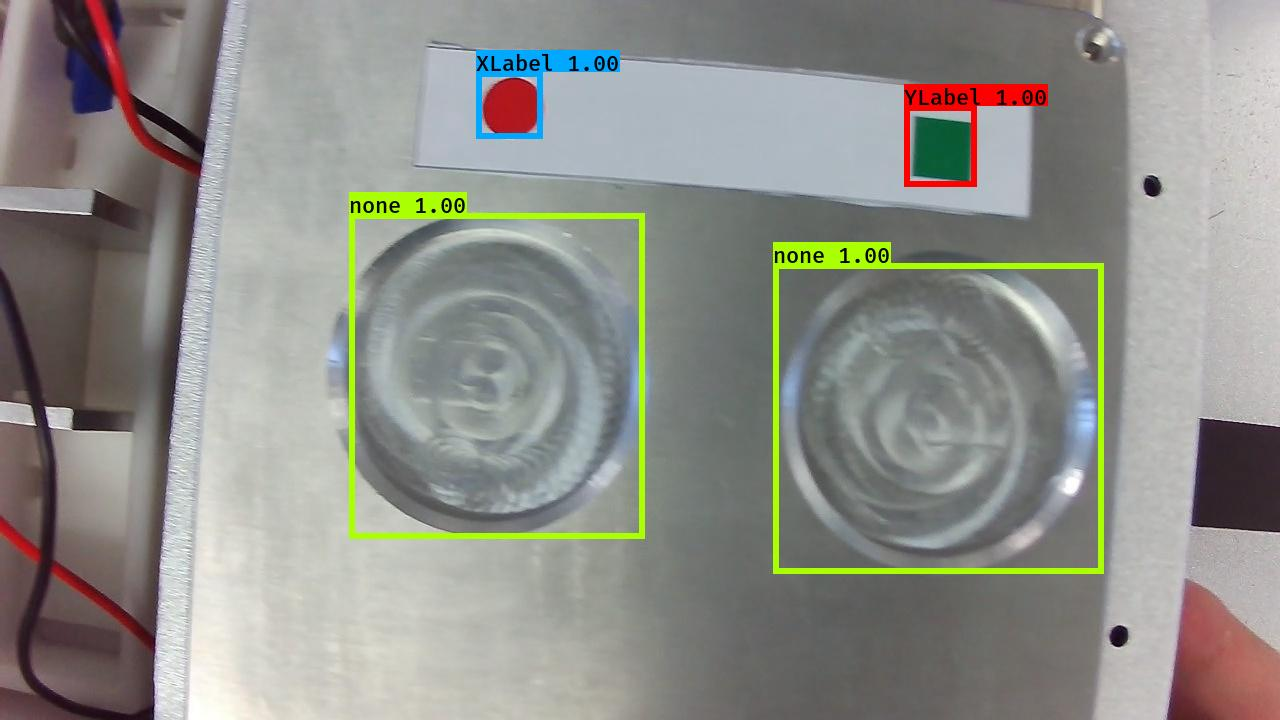XLabel: (481, 74, 544, 142)
YLabel: (907, 112, 980, 185)
none: (765, 244, 1106, 582), (317, 206, 656, 541)
